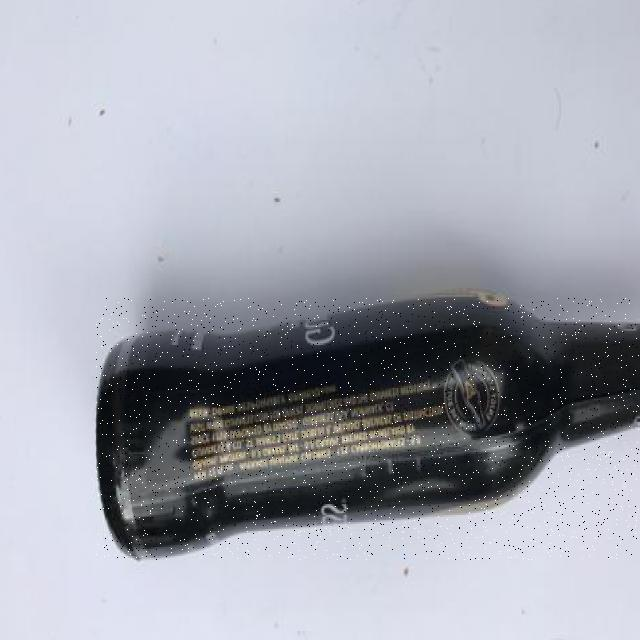glass: (97, 298, 639, 559)
